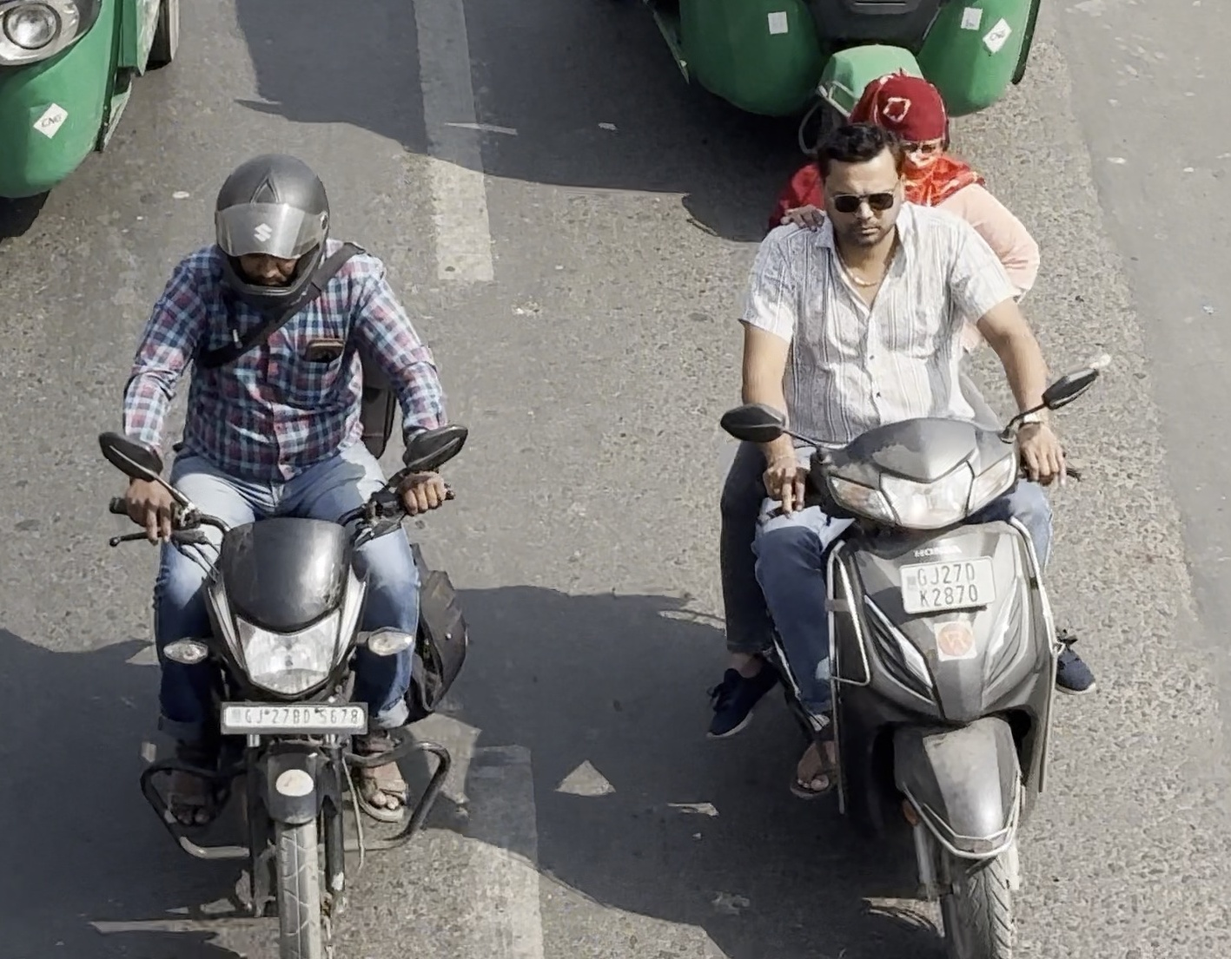BikeWithRider: (694, 60, 1115, 959), (86, 139, 485, 959)
Helmet: (195, 139, 347, 312)
NoHelmet: (798, 116, 921, 256), (845, 61, 963, 178)
